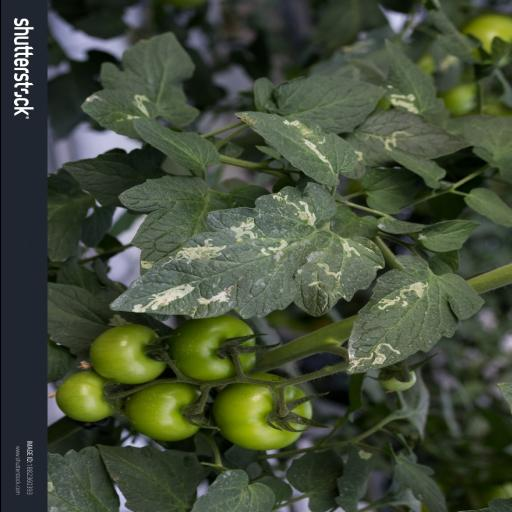Leaf Miner: (106, 182, 386, 320), (343, 252, 484, 378), (234, 108, 368, 186)
